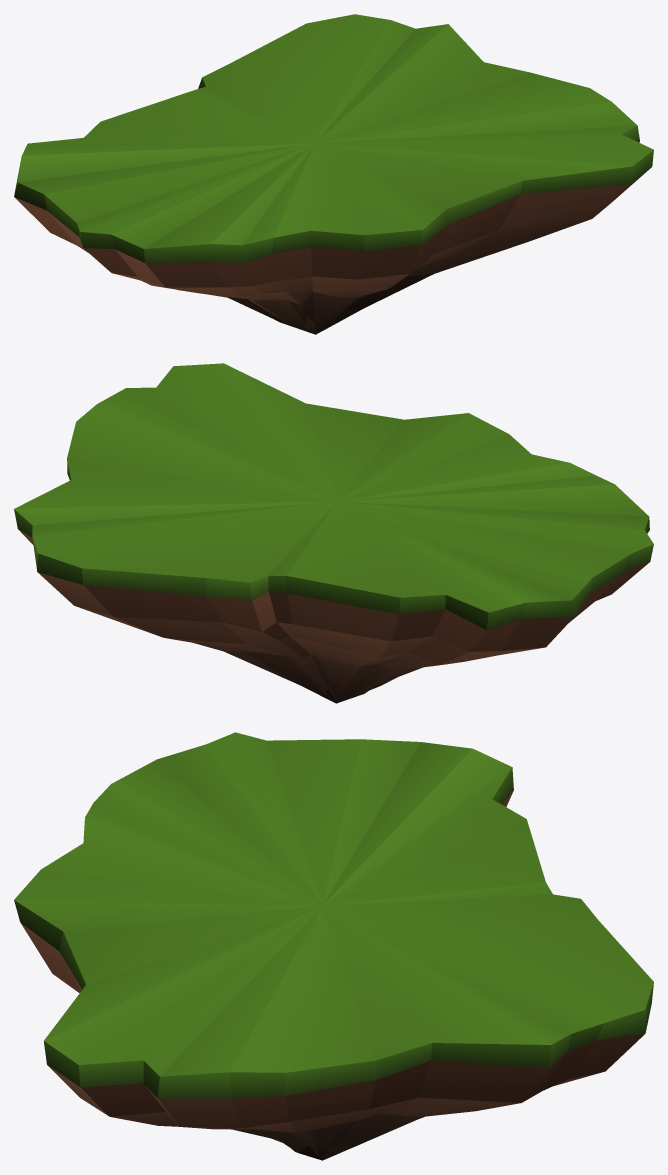
The model's file is Island.glb.
3 views of the same model, one above another, from view 1: azimuth 30°, elevation 25°; view 2: azimuth 150°, elevation 25°; view 3: azimuth 270°, elevation 25° (orthographic). The views are drawn at different scales.
Visible parts, largest first — view 1: Vert.001, Vert.002; view 2: Vert.001, Vert.002; view 3: Vert.001, Vert.002.
Boxes of the visible parts, left/top/right/bottom form: Vert.001: left=14, top=14, right=653, bottom=262; Vert.002: left=14, top=142, right=649, bottom=334; Vert.001: left=14, top=363, right=653, bottom=629; Vert.002: left=18, top=529, right=649, bottom=703; Vert.001: left=14, top=732, right=653, bottom=1098; Vert.002: left=20, top=790, right=644, bottom=1160.
Size of the model in its own units: 17.85 by 6.28 by 14.08.
Materials: 2 (2 with a texture image).
